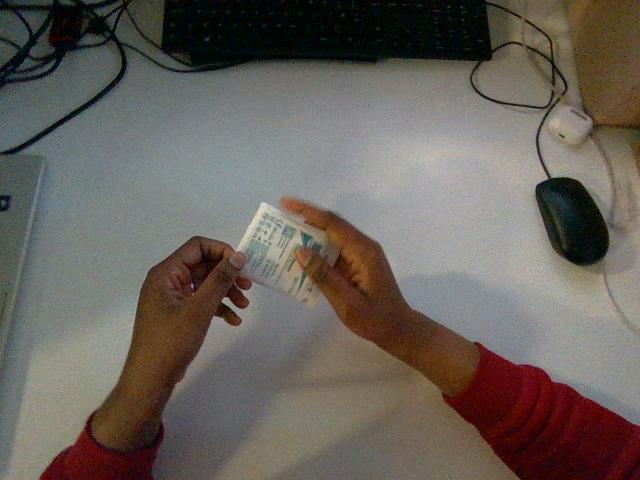gauze: (237, 203, 338, 305)
